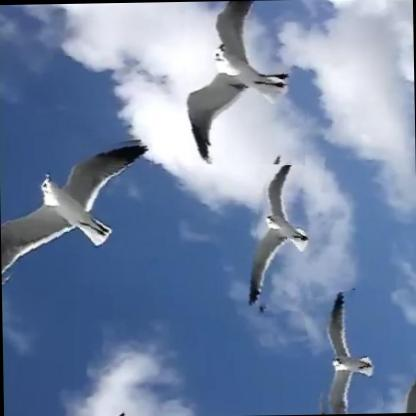bird: (0, 132, 151, 286), (178, 0, 311, 165), (250, 150, 324, 311), (306, 290, 379, 414)
